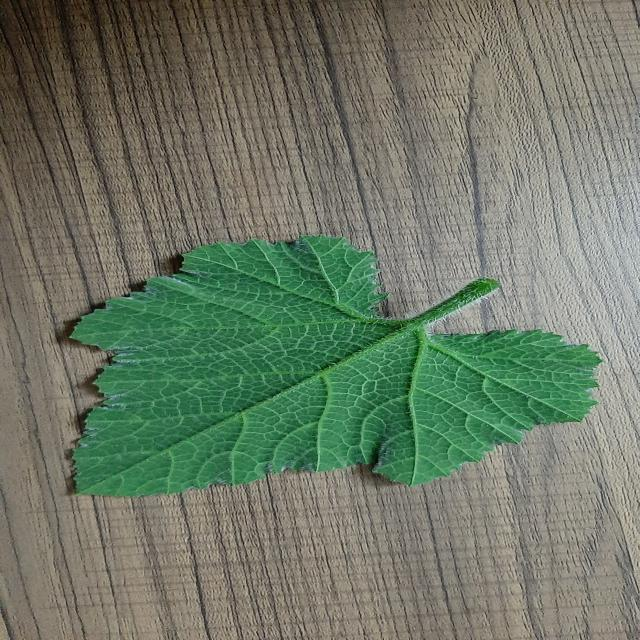pumpkin: (73, 236, 599, 496)
